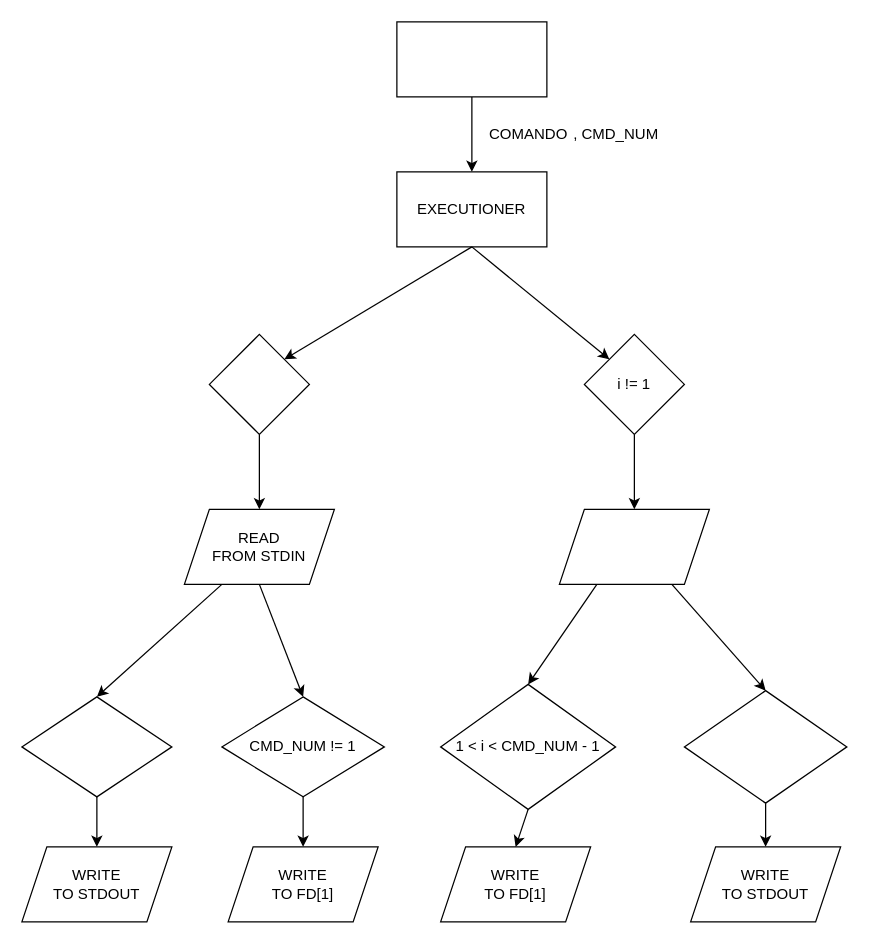
The diagram is 869 pixels wide and 944 high, and some of its shapes have lost their labels. Each missing label, with the centre of its shape:
CMD_NUM = 1: the point at 96,746
i = 1: the point at 258,383
i = CMD_NUM - 1: the point at 765,746
MAIN: the point at 471,59
READ FROM FD[0]: the point at 633,546
